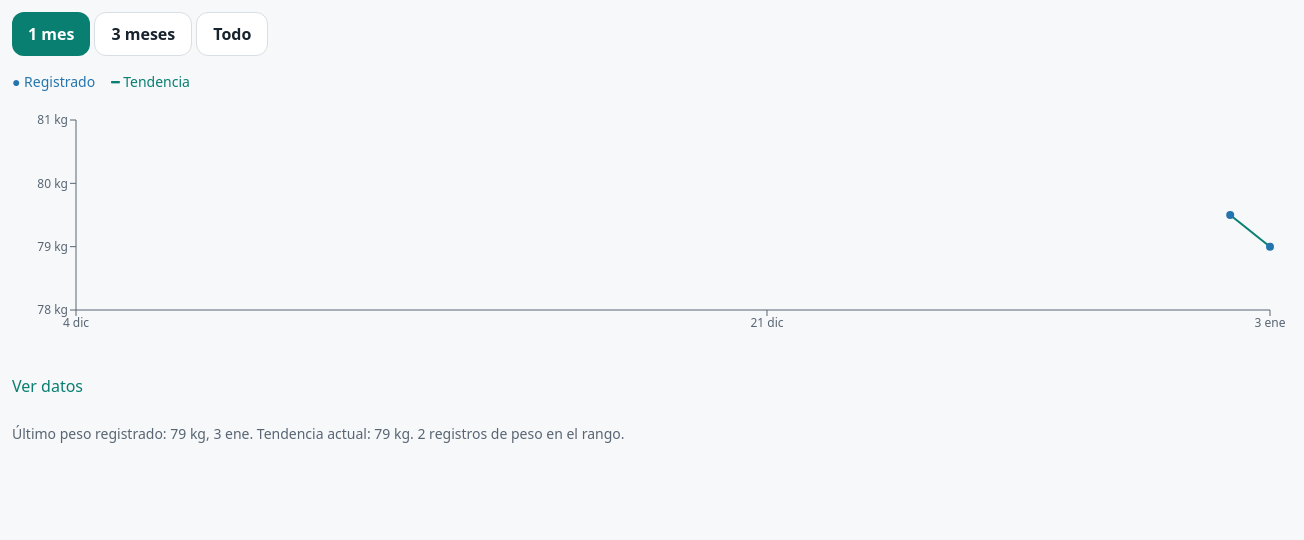
Test: ofrece fechas y valores del rango en una tabla accesible
What coordinates should you click on to do the following:
click the heading "Ver datos"
I would click on:
 (48, 386)
Its box is x1=12 y1=375 x2=83 y2=397.
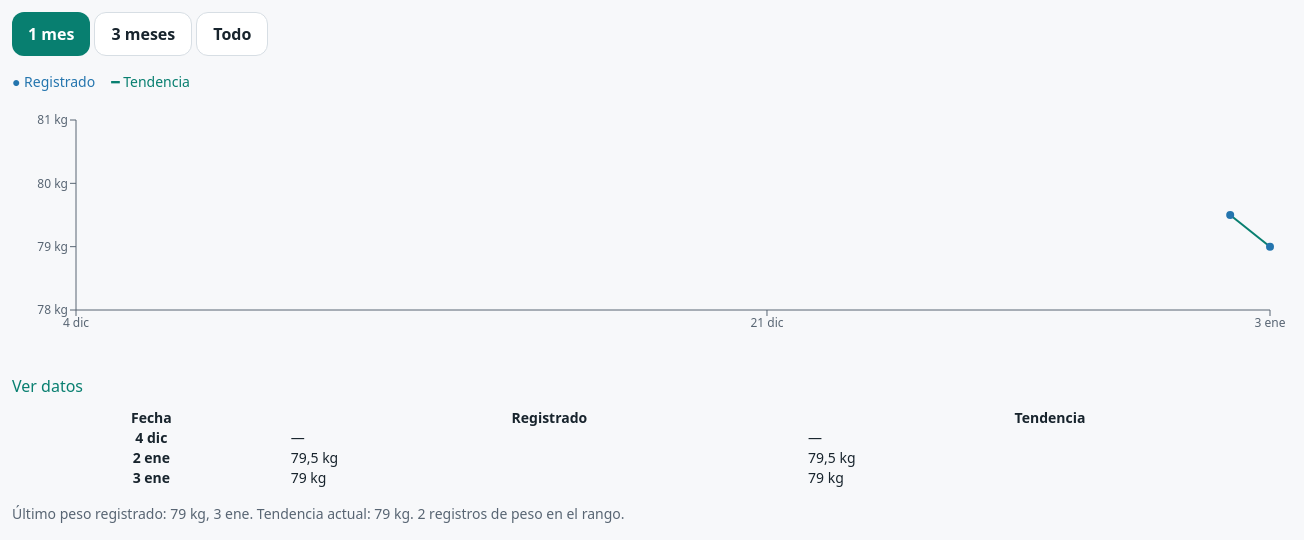
Result: the table shows "2 ene" at x1=133 y1=448 x2=170 y2=467
Result: the table shows "79,5 kg" at x1=291 y1=448 x2=338 y2=467
Result: the table shows "3 ene" at x1=133 y1=468 x2=170 y2=487
